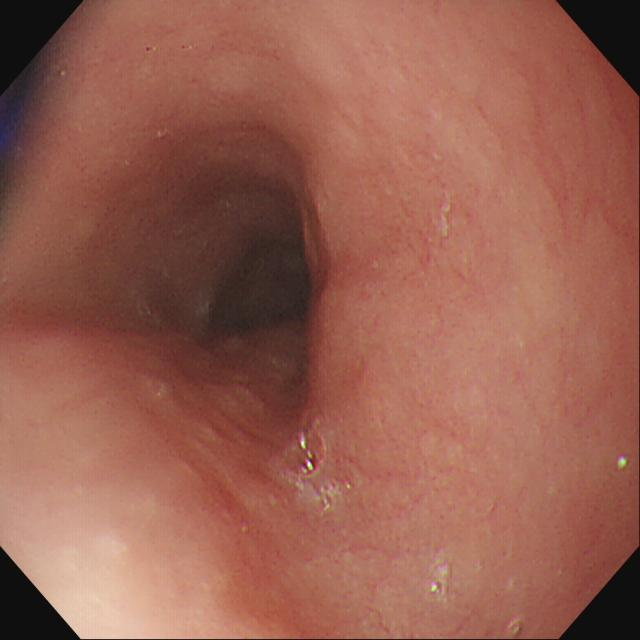E: (191, 228, 307, 342)
T: (279, 418, 336, 484), (428, 562, 458, 602)
